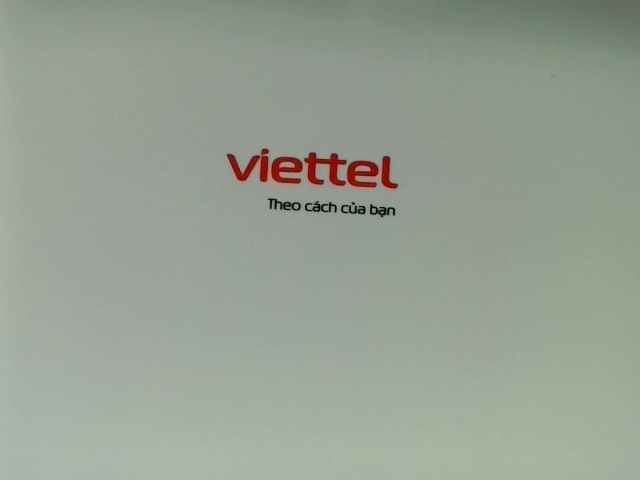AY_Viettel: (221, 143, 403, 221)
